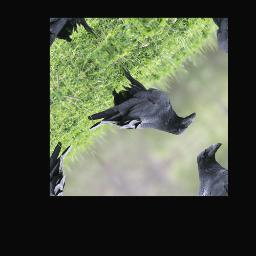Crow: (72, 50, 200, 178)
